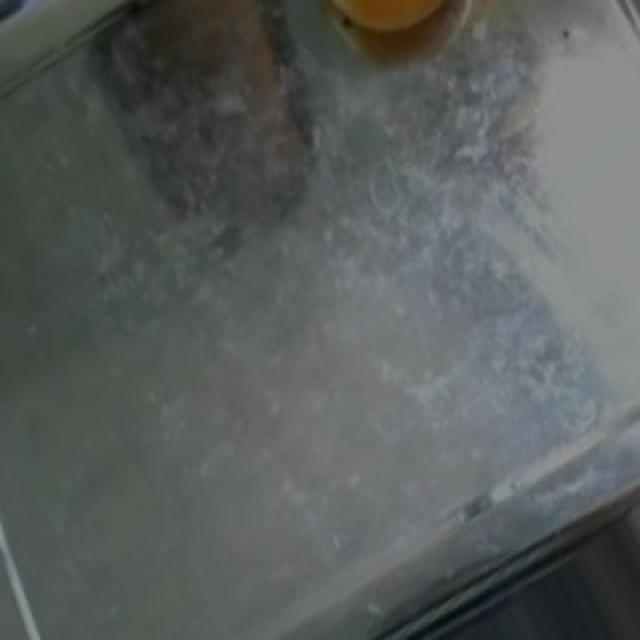Fruit: (288, 2, 498, 64)
